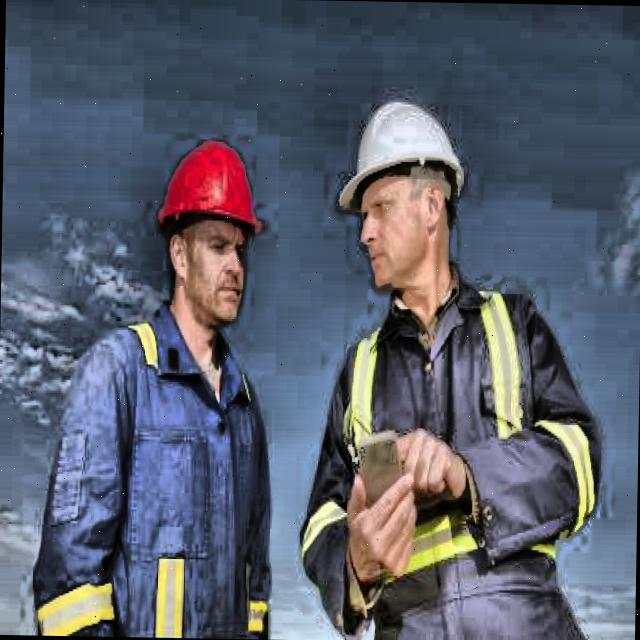helmet: (330, 75, 478, 310), (144, 122, 274, 342)
